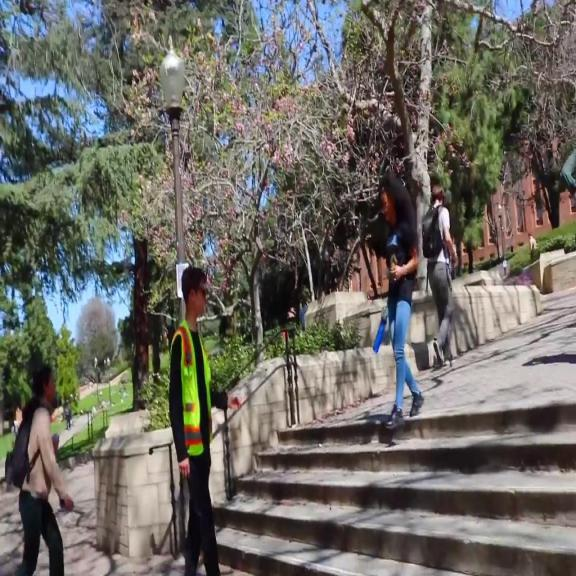safety_vest: (167, 322, 215, 458)
